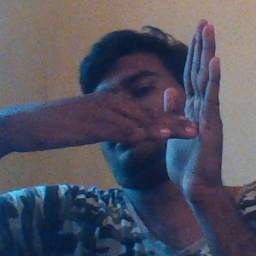Z: (111, 19, 234, 195)
